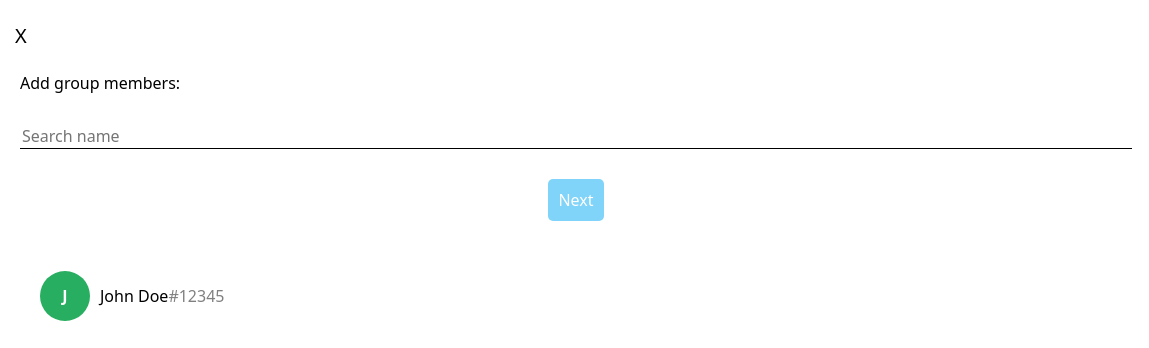
Scenario: AddGroup Component › When clicking next › renders OtherGroupOptions content
This screenshot has width=1149, height=348.
Click the button with test id "addContactToGroup" at (65,296), box [30,261,1122,331]
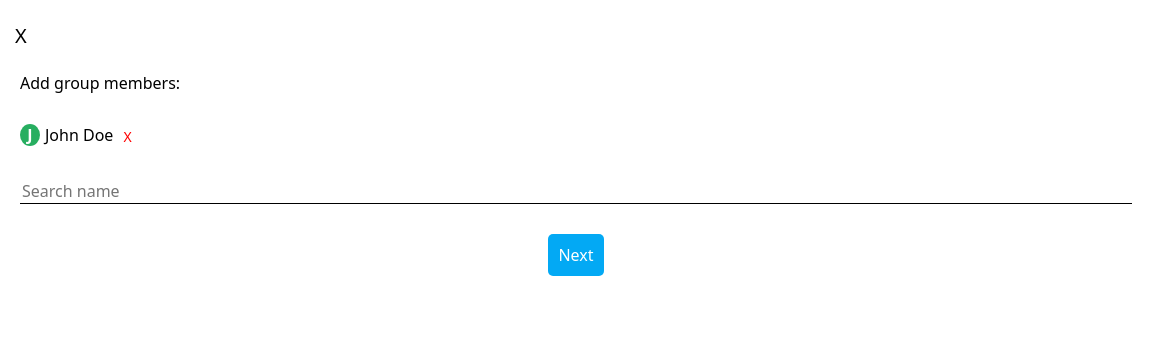
Click the button "Next" at (576,255), box [548,234,604,276]
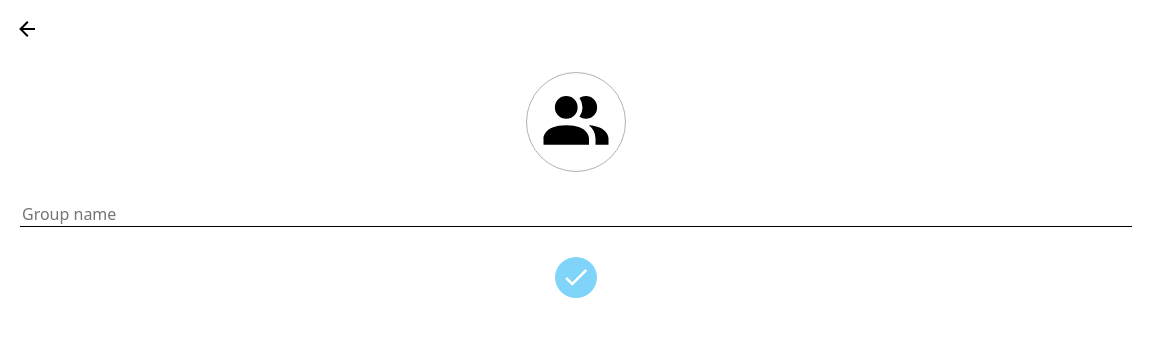
Result: the field labelled "Group name" is shown at [20,202,1132,227]
